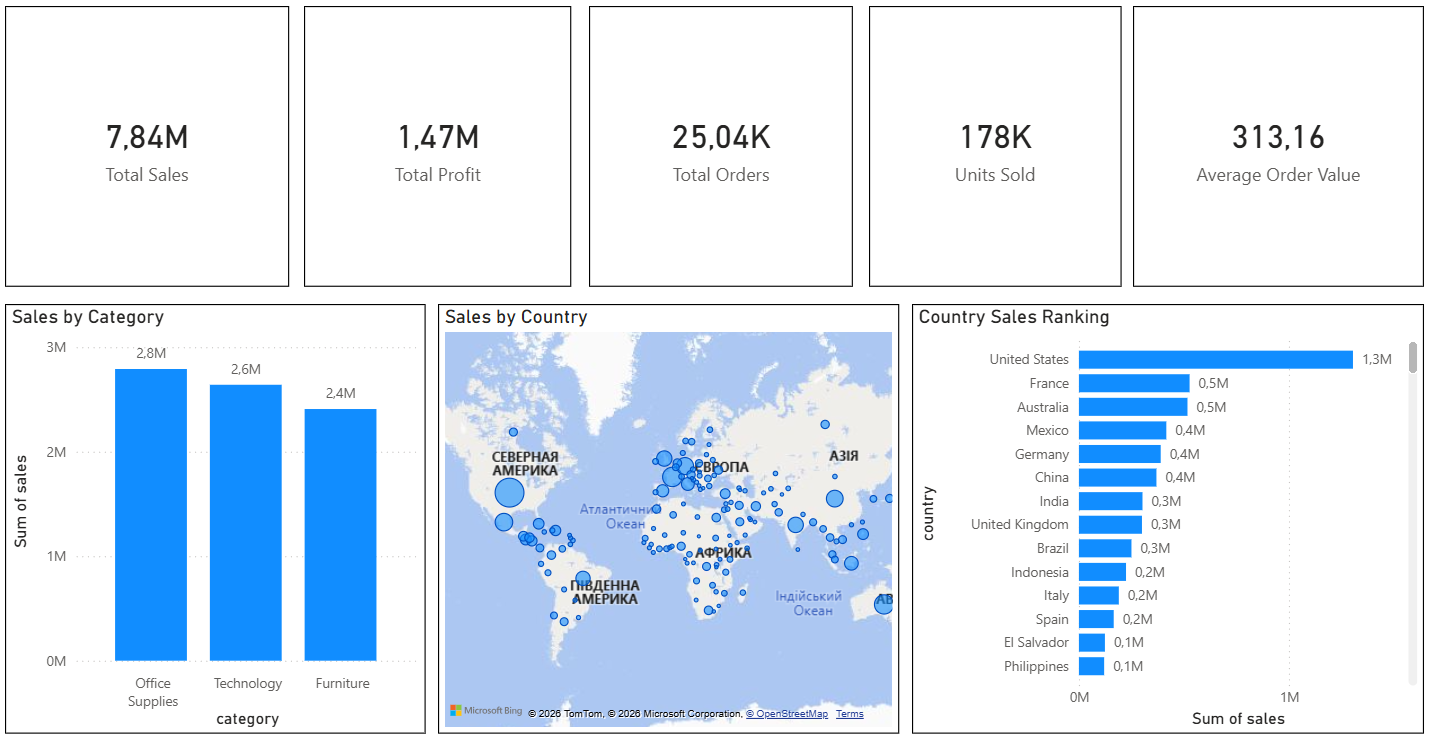

This screenshot's page, from the dashboard's own definition file:
{"tool":"powerbi","page":{"name":"Overwiev","canvas":[1280,720],"ordinal":0},"visuals":[{"type":"card","title":"Revenue","fields":{"Values":["Sum(SuperStoreOrders.sales)"]},"box":[9.7,0,251.9,249],"z":0},{"type":"card","fields":{"Values":["Sum(SuperStoreOrders.profit)"]},"box":[275.3,0,237.3,249],"z":1000},{"type":"card","fields":{"Values":["Count(SuperStoreOrders.order_id)"]},"box":[527.2,0,234.4,249],"z":2000},{"type":"card","fields":{"Values":["Sum(SuperStoreOrders.quantity)"]},"box":[776.2,0,223.7,249],"z":3000},{"type":"card","fields":{"Values":["SuperStoreOrders.Avg Order Value"]},"box":[1022.2,0,257.8,249],"z":4000},{"type":"clusteredColumnChart","title":"Sales by Category","fields":{"Category":["SuperStoreOrders.category"],"Y":["Sum(SuperStoreOrders.sales)"]},"box":[9.7,264.6,372.5,381.3],"z":5000},{"type":"map","title":"Sales by Country","fields":{"Size":["Sum(SuperStoreOrders.sales)"],"Category":["SuperStoreOrders.country"]},"box":[393.9,264.6,408.5,381.3],"z":6000},{"type":"clusteredBarChart","title":"Country Sales Ranking","fields":{"Category":["SuperStoreOrders.country"],"Y":["Sum(SuperStoreOrders.sales)"]},"box":[814.1,264.6,454.2,381.3],"z":7000}]}

Visuals, with their boxes on the page's 1280x720 design canvas (x1, y1, x2, y2). These are canvas units, not pixel positions in the 1430x742 screenshot, which may show the page scaled, cropped or inside an application window:
"Revenue" card: [x1=10, y1=0, x2=262, y2=249]
card - Sum(SuperStoreOrders.profit): [x1=275, y1=0, x2=513, y2=249]
card - Count(SuperStoreOrders.order_id): [x1=527, y1=0, x2=762, y2=249]
card - Sum(SuperStoreOrders.quantity): [x1=776, y1=0, x2=1000, y2=249]
card - SuperStoreOrders.Avg Order Value: [x1=1022, y1=0, x2=1280, y2=249]
"Sales by Category" clusteredColumnChart: [x1=10, y1=265, x2=382, y2=646]
"Sales by Country" map: [x1=394, y1=265, x2=802, y2=646]
"Country Sales Ranking" clusteredBarChart: [x1=814, y1=265, x2=1268, y2=646]
